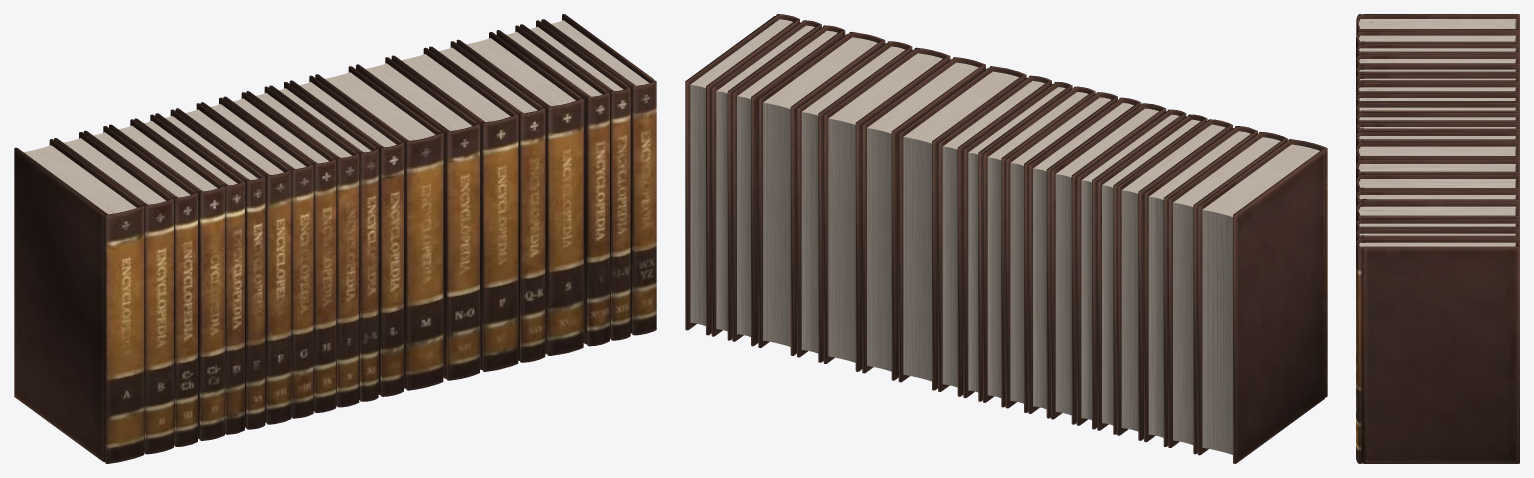
File: book_encyclopedia_set_01.glb
The picture shows the model from 3 angles, left to right: view 1: azimuth 30°, elevation 25°; view 2: azimuth 150°, elevation 25°; view 3: azimuth 270°, elevation 25°; orthographic projection. The views are drawn at different scales.
Parts seen in each view (by area): view 1: book_encyclopedia_set_01_book01; view 2: book_encyclopedia_set_01_book01; view 3: book_encyclopedia_set_01_book01.
Part boxes in pixels (bbox=[...]): book_encyclopedia_set_01_book01: bbox=[14, 14, 656, 463]; book_encyclopedia_set_01_book01: bbox=[685, 14, 1327, 463]; book_encyclopedia_set_01_book01: bbox=[1356, 14, 1519, 463].
Bounding box in the file's own units: 0.5513 × 0.2374 × 0.1631.
2 materials, 2 textured.
